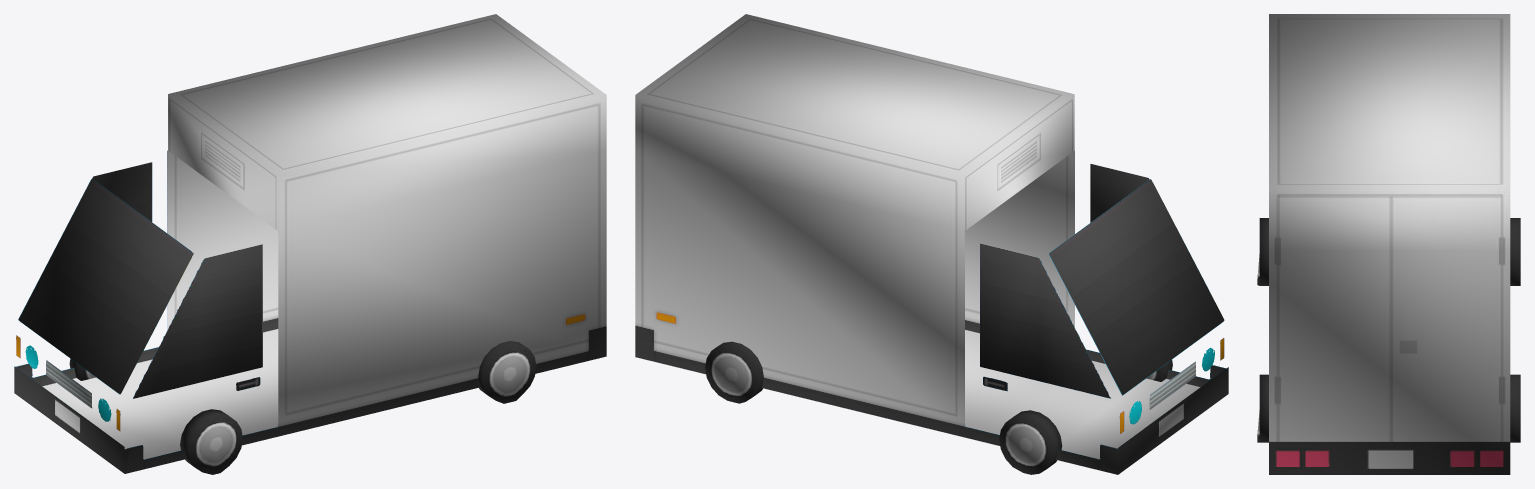
Rendered from camion.obj.
The picture shows the model from 3 angles, left to right: view 1: azimuth 30°, elevation 25°; view 2: azimuth 150°, elevation 25°; view 3: azimuth 270°, elevation 25°; orthographic projection. The views are drawn at different scales.
Parts seen in each view (by area): view 1: Car_07; view 2: Car_07; view 3: Car_07.
Part boxes in pixels (<box>): Car_07: <box>14,14,606,474</box>; Car_07: <box>635,14,1228,474</box>; Car_07: <box>1257,14,1520,474</box>.
Bounding box in the file's own units: 24.14 × 13.36 × 10.46.
